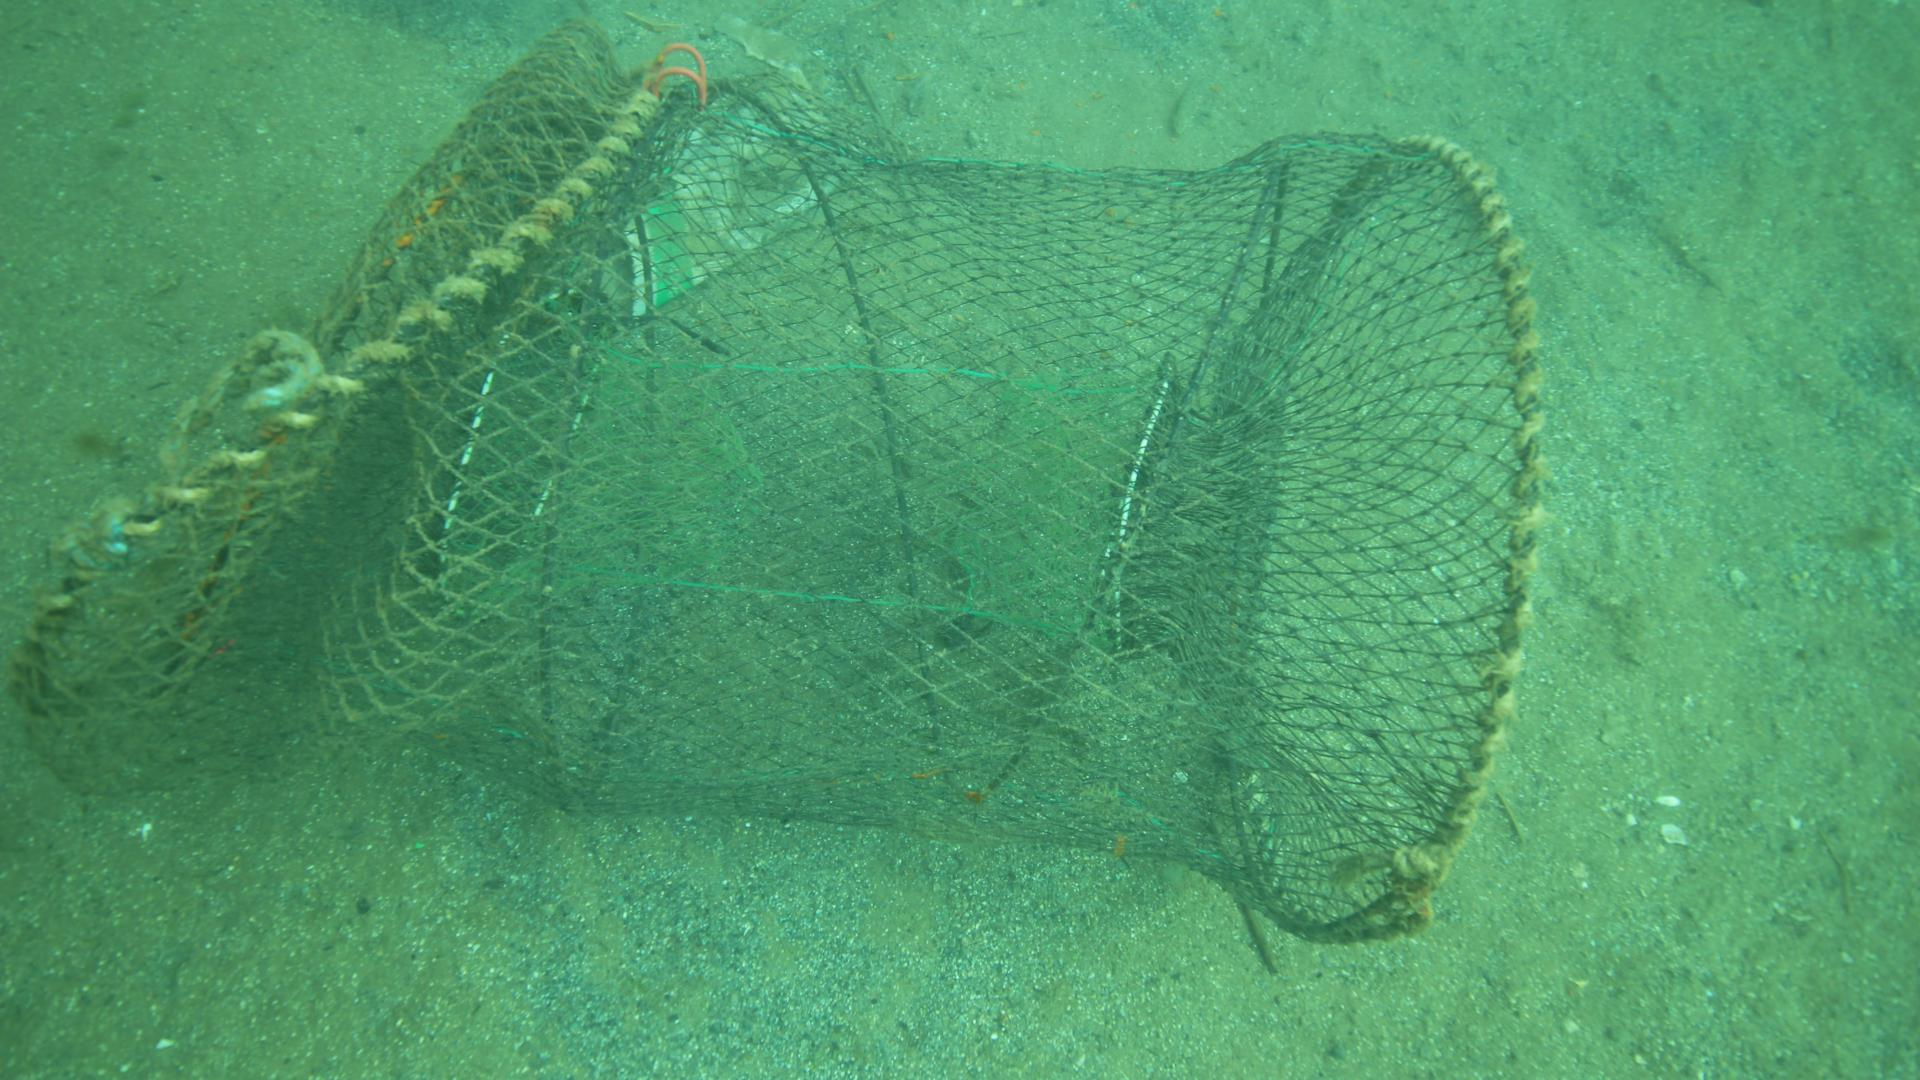spring fish trap: (0, 13, 1548, 943)
